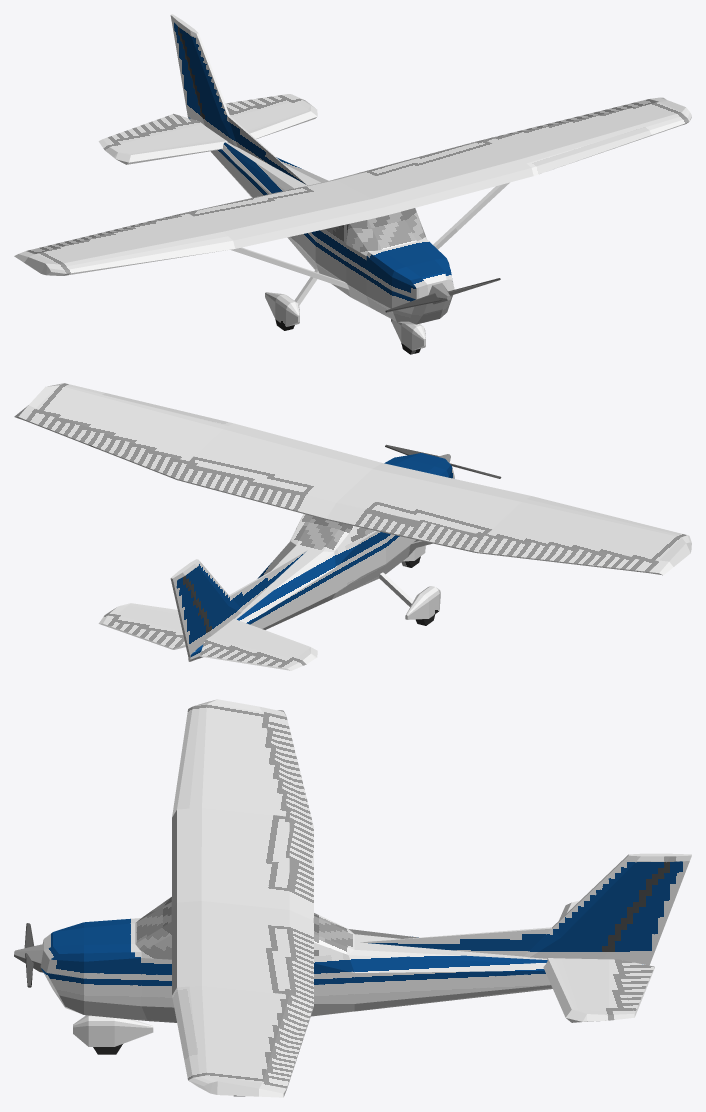
Rendered from cessna.glb.
The picture shows the model from 3 angles, top to bottom: view 1: azimuth 30°, elevation 25°; view 2: azimuth 150°, elevation 25°; view 3: azimuth 270°, elevation 25°; orthographic projection. The views are drawn at different scales.
Visible parts, largest first — view 1: left_wing, right_wing, cessna_main_body, vertical_stabilizer, right_horizontal_stabilizer, left_horizontal_stabilizer, right_landing_gear, cessna_propeller, front_landing_gear; view 2: left_wing, right_wing, cessna_main_body, vertical_stabilizer, right_horizontal_stabilizer, left_horizontal_stabilizer, right_landing_gear; view 3: cessna_main_body, right_wing, left_wing, vertical_stabilizer, left_horizontal_stabilizer, front_landing_gear, cessna_propeller.
Part boxes in pixels (left/top/right/bottom): left_wing: left=328, top=97, right=691, bottom=249; right_wing: left=14, top=180, right=384, bottom=289; cessna_main_body: left=188, top=117, right=454, bottom=324; vertical_stabilizer: left=170, top=14, right=307, bottom=185; right_horizontal_stabilizer: left=98, top=113, right=227, bottom=164; left_horizontal_stabilizer: left=225, top=94, right=317, bottom=138; right_landing_gear: left=265, top=268, right=318, bottom=330; cessna_propeller: left=385, top=278, right=500, bottom=312; front_landing_gear: left=391, top=319, right=425, bottom=354; left_wing: left=14, top=383, right=381, bottom=519; right_wing: left=326, top=463, right=691, bottom=575; cessna_main_body: left=188, top=453, right=454, bottom=661; vertical_stabilizer: left=170, top=550, right=307, bottom=657; right_horizontal_stabilizer: left=200, top=619, right=317, bottom=670; left_horizontal_stabilizer: left=98, top=603, right=185, bottom=649; right_landing_gear: left=379, top=572, right=440, bottom=625; cessna_main_body: left=40, top=897, right=642, bottom=1022; right_wing: left=171, top=699, right=313, bottom=920; left_wing: left=171, top=901, right=313, bottom=1097; vertical_stabilizer: left=360, top=853, right=691, bottom=965; left_horizontal_stabilizer: left=543, top=958, right=654, bottom=1022; front_landing_gear: left=73, top=1015, right=153, bottom=1054; cessna_propeller: left=14, top=923, right=43, bottom=987.
Size of the model in its own units: 13.21 by 3.13 by 9.78.
Materials: 1 (1 with a texture image).
